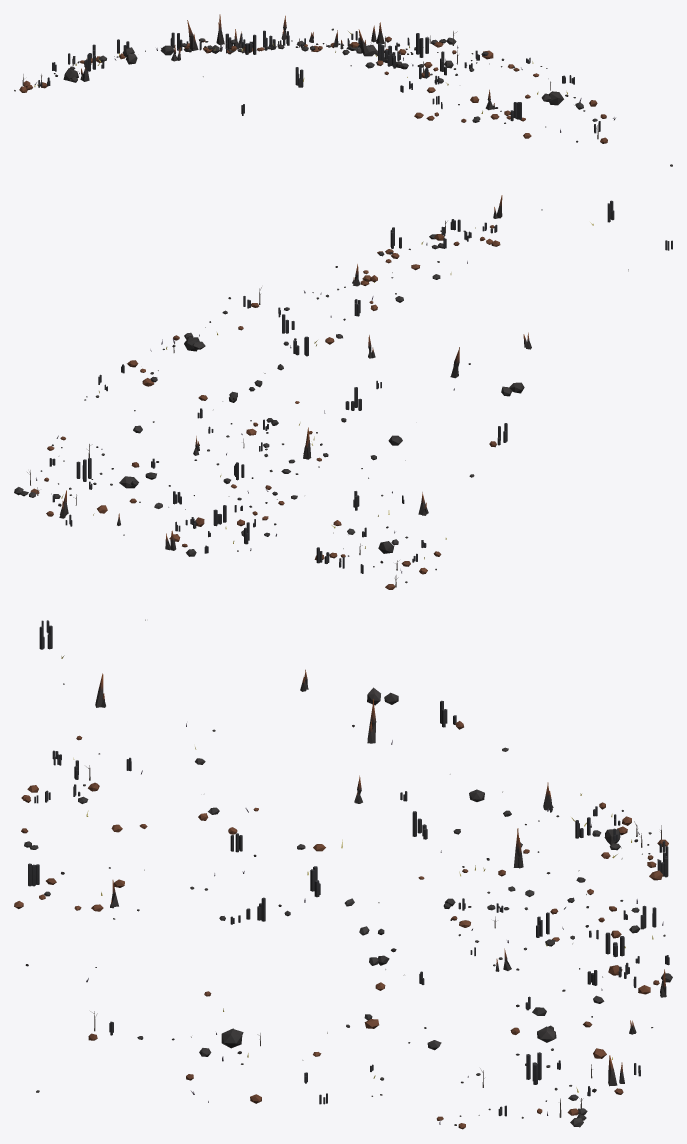
The model's file is ash_land_scatter_c21_28_lod1.glb.
3 views of the same model, one above another, from view 1: azimuth 30°, elevation 25°; view 2: azimuth 150°, elevation 25°; view 3: azimuth 270°, elevation 25° (orthographic). The views are drawn at different scales.
Parts seen in each view (by area): view 1: ash_land_scatter_c21_28_lod1; view 2: ash_land_scatter_c21_28_lod1; view 3: ash_land_scatter_c21_28_lod1.
Part boxes in pixels (box(x1,y1,x2,y2)): ash_land_scatter_c21_28_lod1: box(14, 14, 672, 166); ash_land_scatter_c21_28_lod1: box(14, 195, 672, 589); ash_land_scatter_c21_28_lod1: box(14, 619, 672, 1129).
Bounding box in the file's own units: 257 × 122 × 260.
